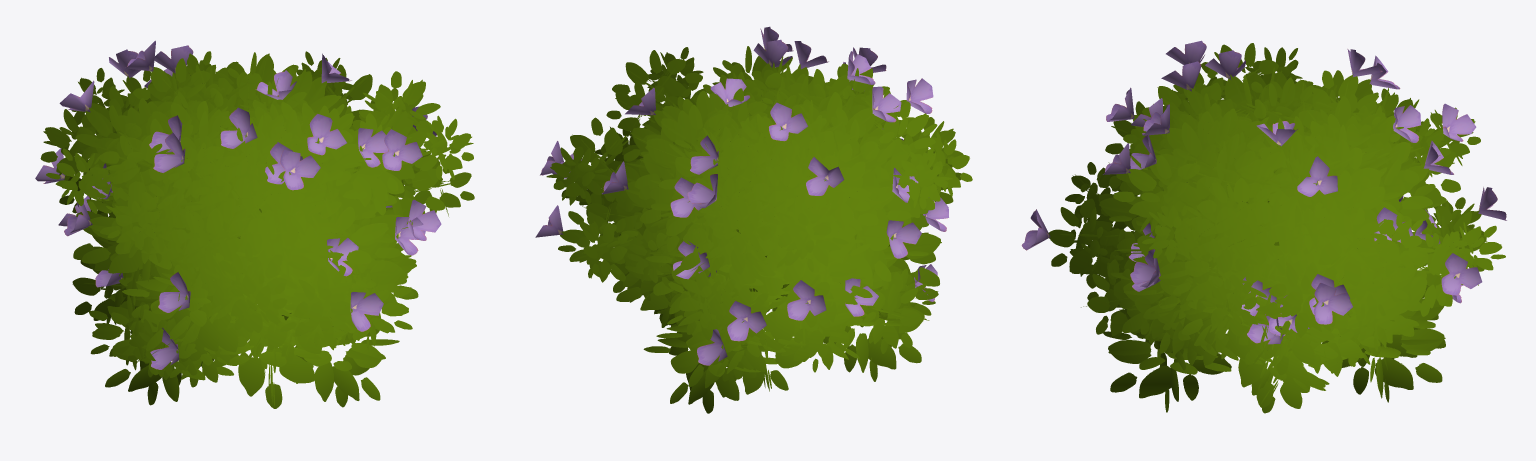
Rendered from Bush_Common_Flowers@lod.gltf.
The picture shows the model from 3 angles, left to right: view 1: azimuth 30°, elevation 25°; view 2: azimuth 150°, elevation 25°; view 3: azimuth 270°, elevation 25°; orthographic projection. The views are drawn at different scales.
Visible parts, largest first — view 1: Bush_Common_Flowers; view 2: Bush_Common_Flowers; view 3: Bush_Common_Flowers.
Part boxes in pixels (x1,y1,x2,y2): Bush_Common_Flowers: (35,40,474,408); Bush_Common_Flowers: (535,26,972,413); Bush_Common_Flowers: (1021,40,1506,413).
Bounding box in the file's own units: 1.91 × 1.58 × 1.97.
Materials: 2 (2 with a texture image).
